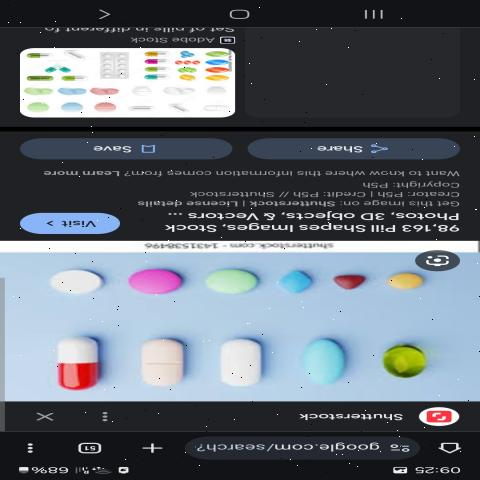Pill: (20, 323, 109, 394), (290, 329, 362, 391), (126, 331, 193, 393), (207, 332, 282, 387), (32, 260, 104, 307), (203, 261, 264, 303), (377, 267, 429, 296)
